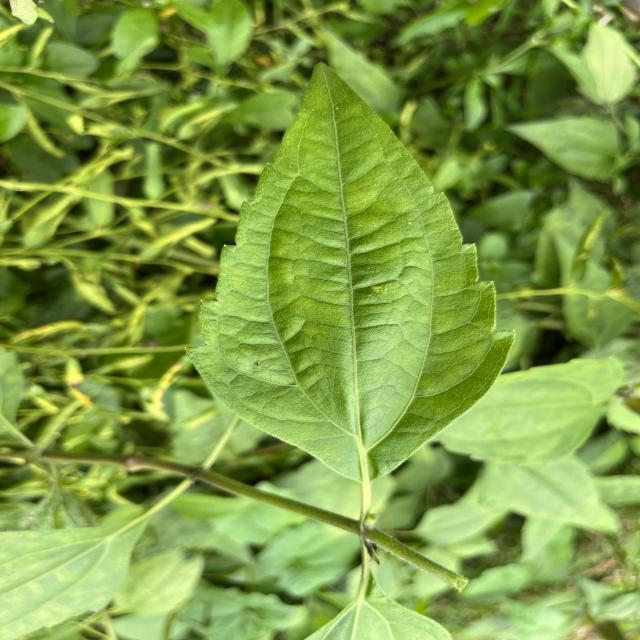Chromolaena odorata: (182, 58, 522, 488)
